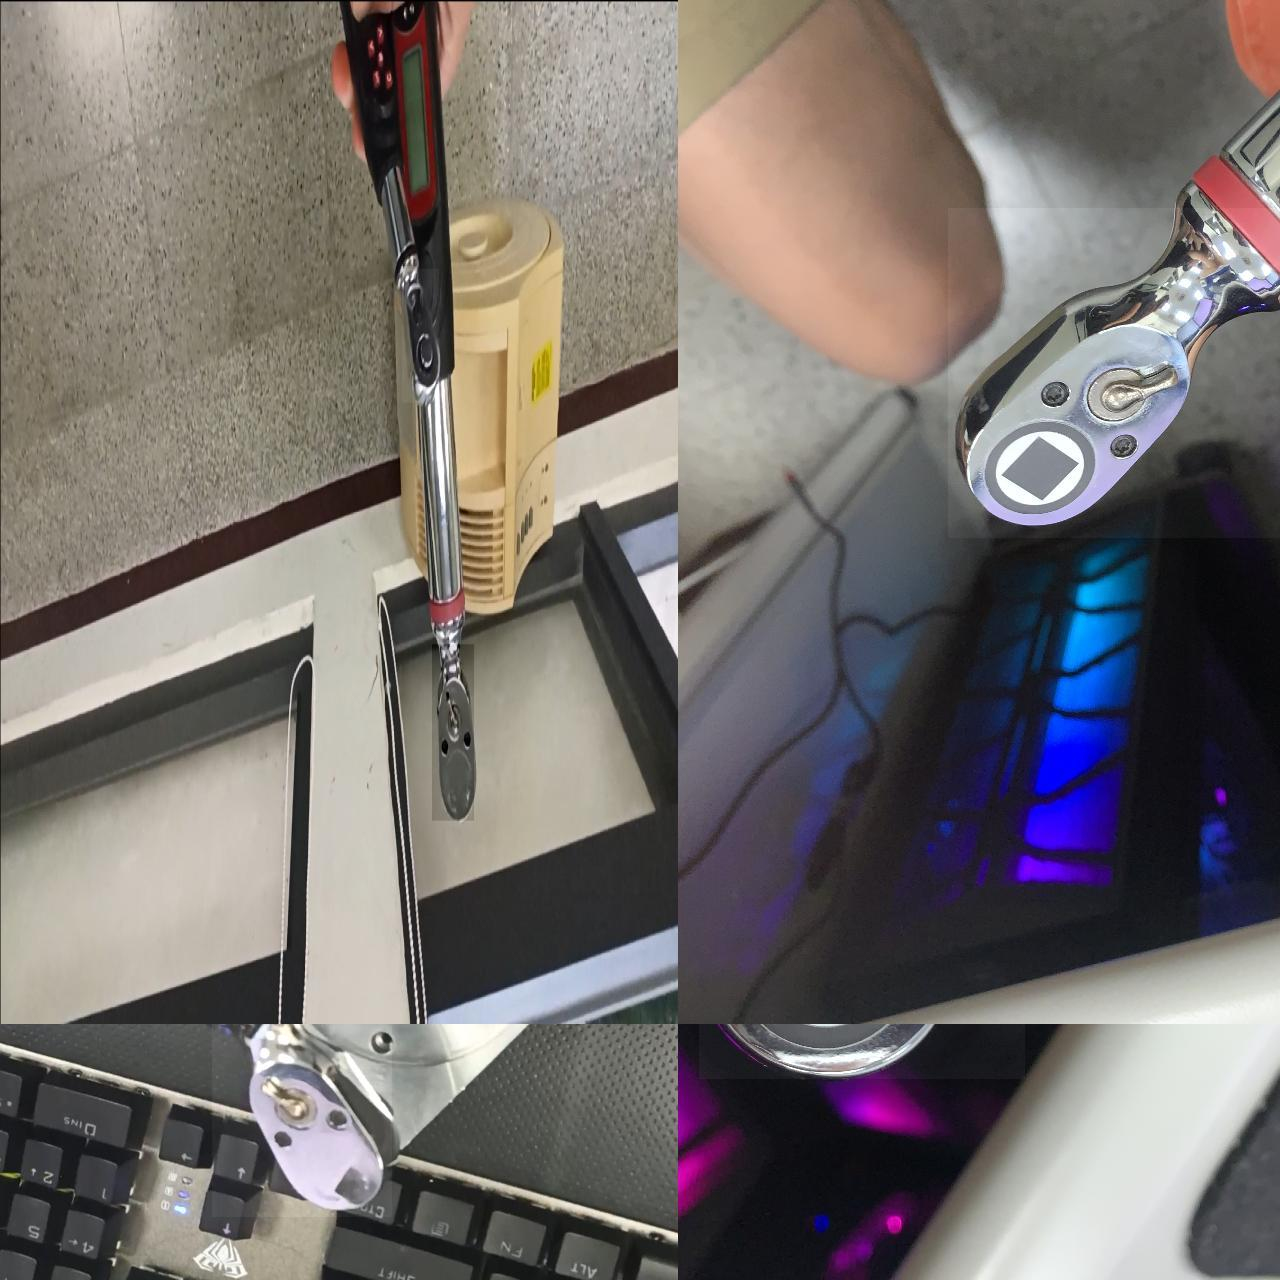Tool: (947, 207, 1280, 537), (211, 1024, 392, 1216), (431, 642, 474, 819), (402, 267, 438, 401)
